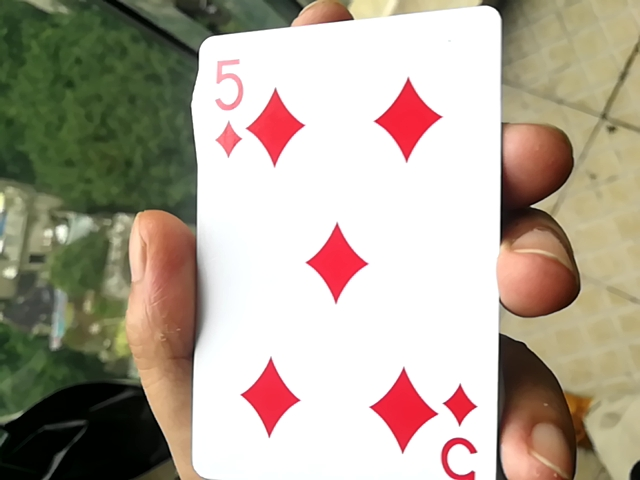fk 5: (165, 3, 500, 477)
